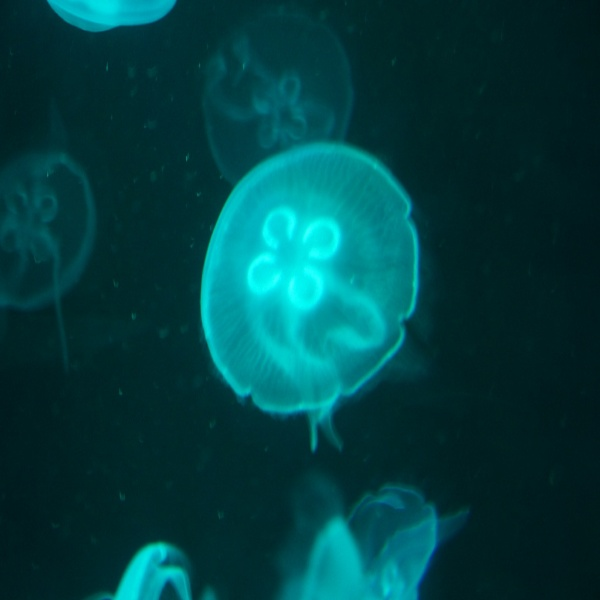Jellyfish: (197, 138, 422, 452), (199, 1, 353, 189), (1, 150, 97, 370), (285, 485, 467, 599), (96, 536, 217, 599), (46, 0, 178, 34)
